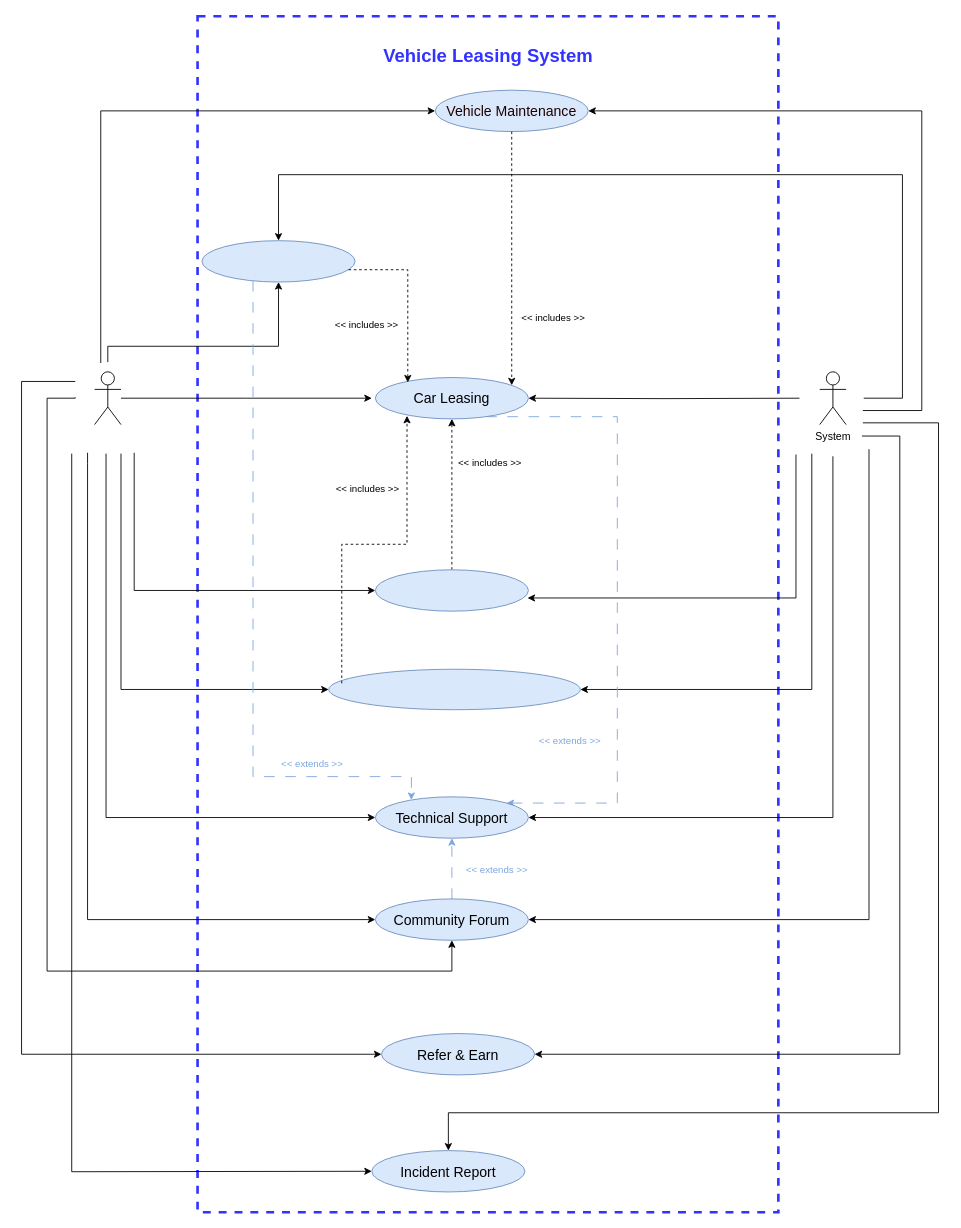
Some shapes in this 961 by 1228 pixel diagram are drawn without their labels. Each missing label, with the centre of its shape:
"Leasing Renewal" belongs at (278,261).
"Smart Vehicle Location Tracking" belongs at (454,689).
"Smart Vehicle Pickup" belongs at (451,590).
"User" belongs at (107,398).
